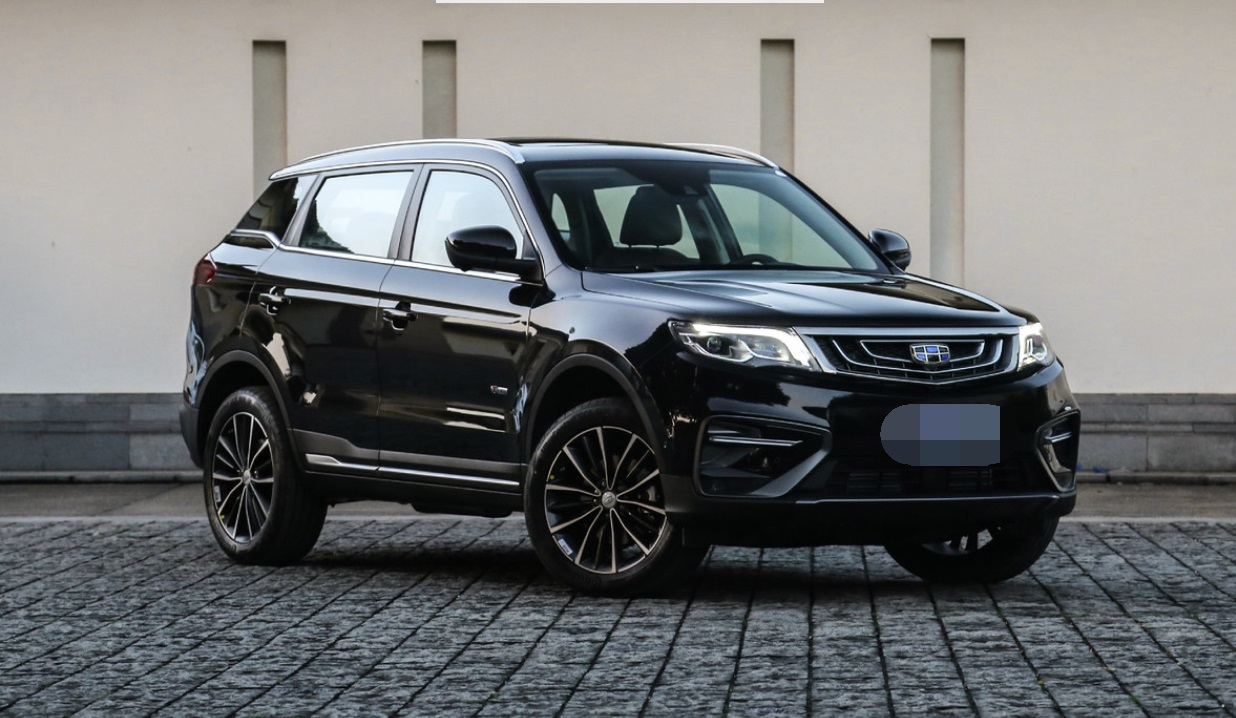SUV: (177, 125, 1096, 592)
